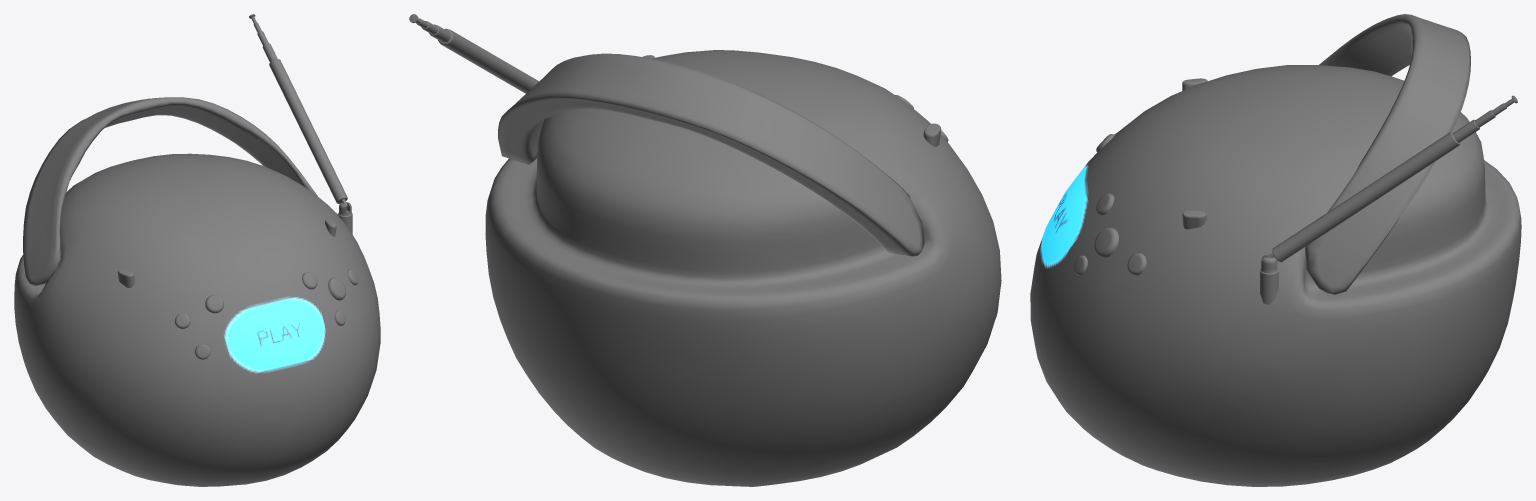
The model's file is boombox_neural.glb.
3 views of the same model, side by side, from view 1: azimuth 30°, elevation 25°; view 2: azimuth 150°, elevation 25°; view 3: azimuth 270°, elevation 25° (orthographic). The views are drawn at different scales.
Parts seen in each view (by area): view 1: BoomBox; view 2: BoomBox; view 3: BoomBox.
Part boxes in pixels (x1,y1,x2,y2): BoomBox: (14, 14, 380, 486); BoomBox: (409, 14, 1001, 486); BoomBox: (1030, 14, 1521, 486).
Size of the model in its own units: 0.0198 by 0.0195 by 0.0202.
Materials: 1 (1 with a texture image).
